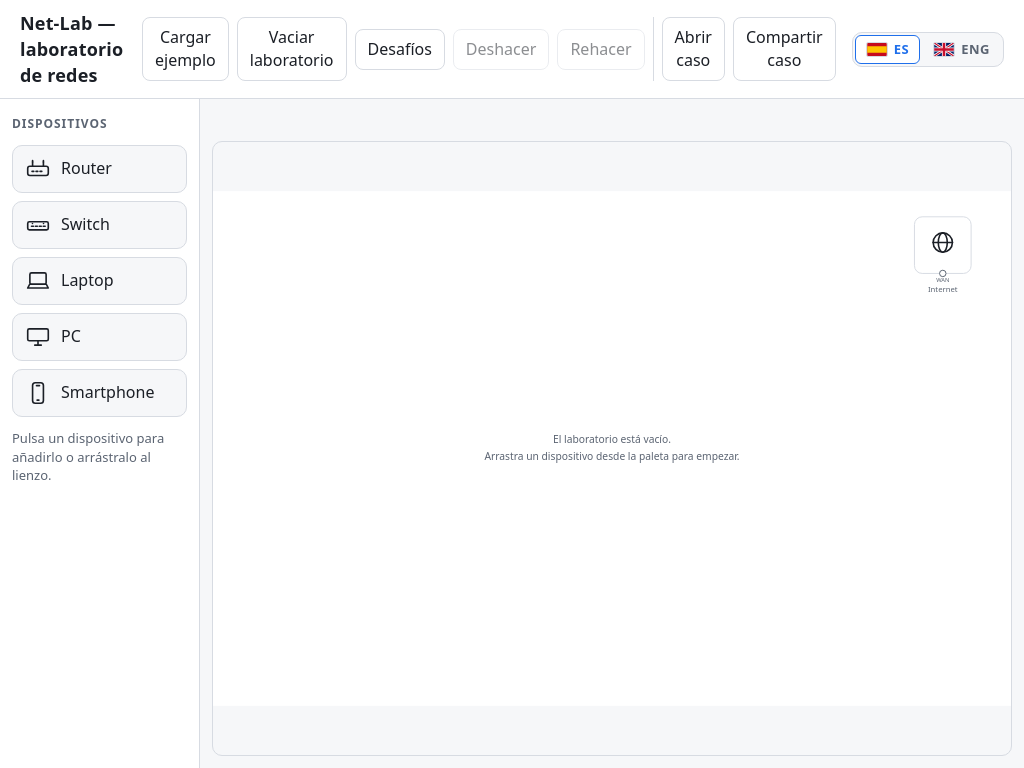
the panel asks before it tells (S76, S77, S80) › hides the reason behind the question and reveals it when the student gets it right
Click the button "Router".
click(100, 169)  # box x1=12 y1=145 x2=187 y2=193
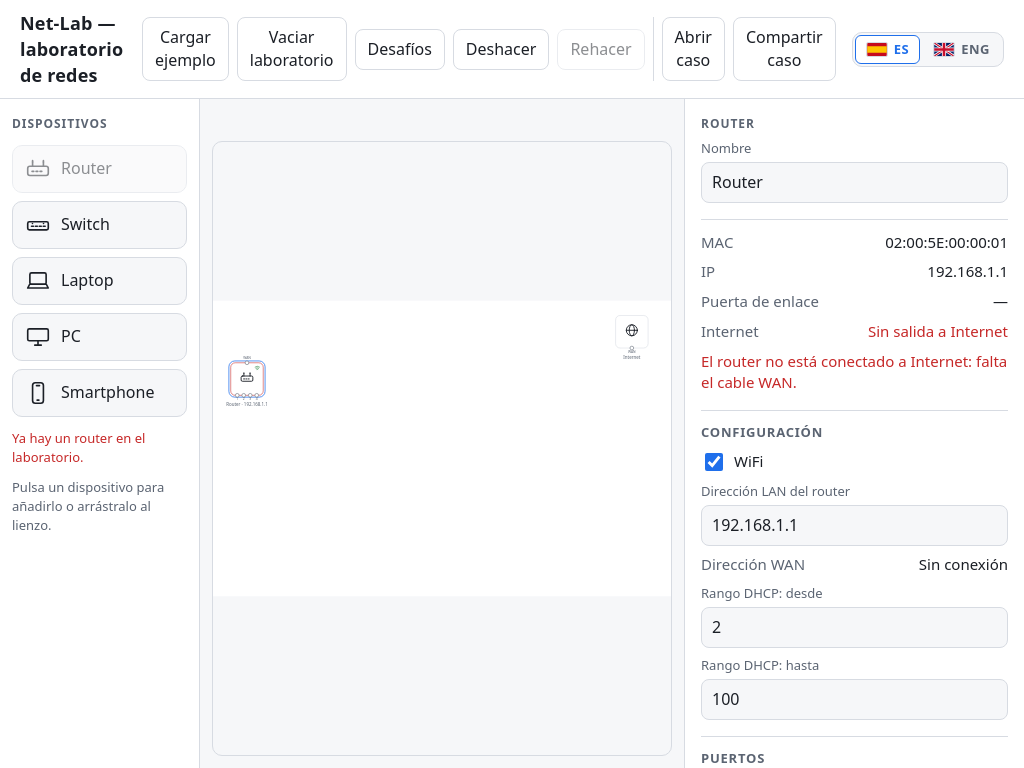
Click the button "Laptop".
click(100, 281)  # box x1=12 y1=257 x2=187 y2=305
(page scrolled)
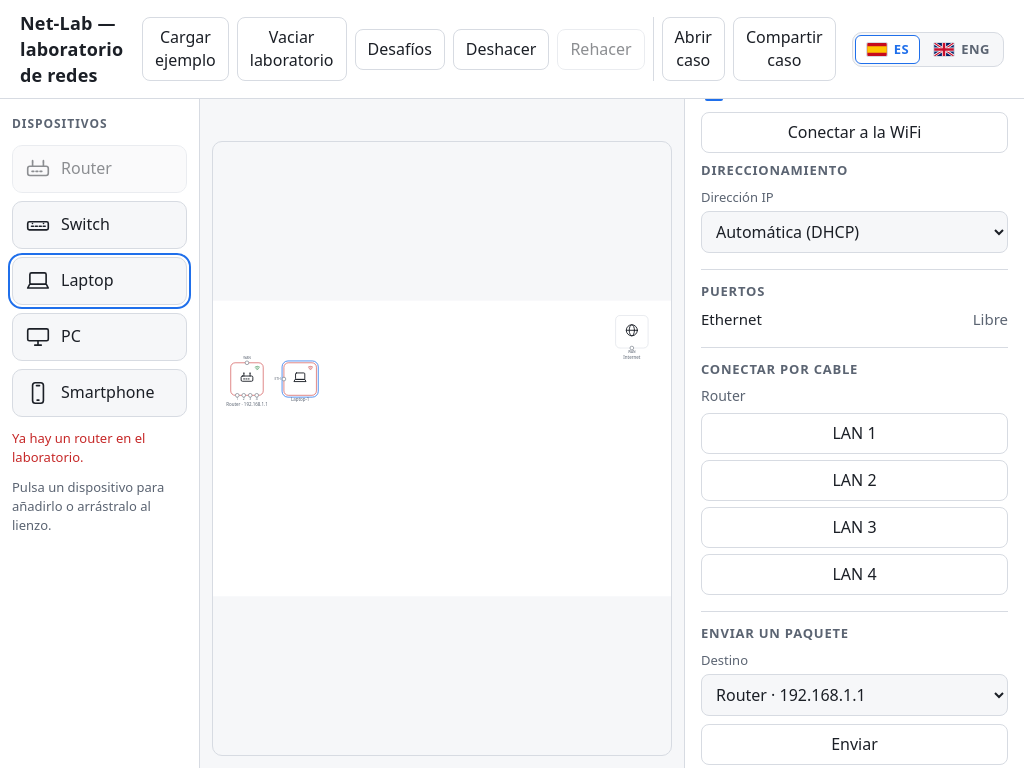
Click the button "LAN 1".
click(854, 433)  # box x1=701 y1=413 x2=1008 y2=454
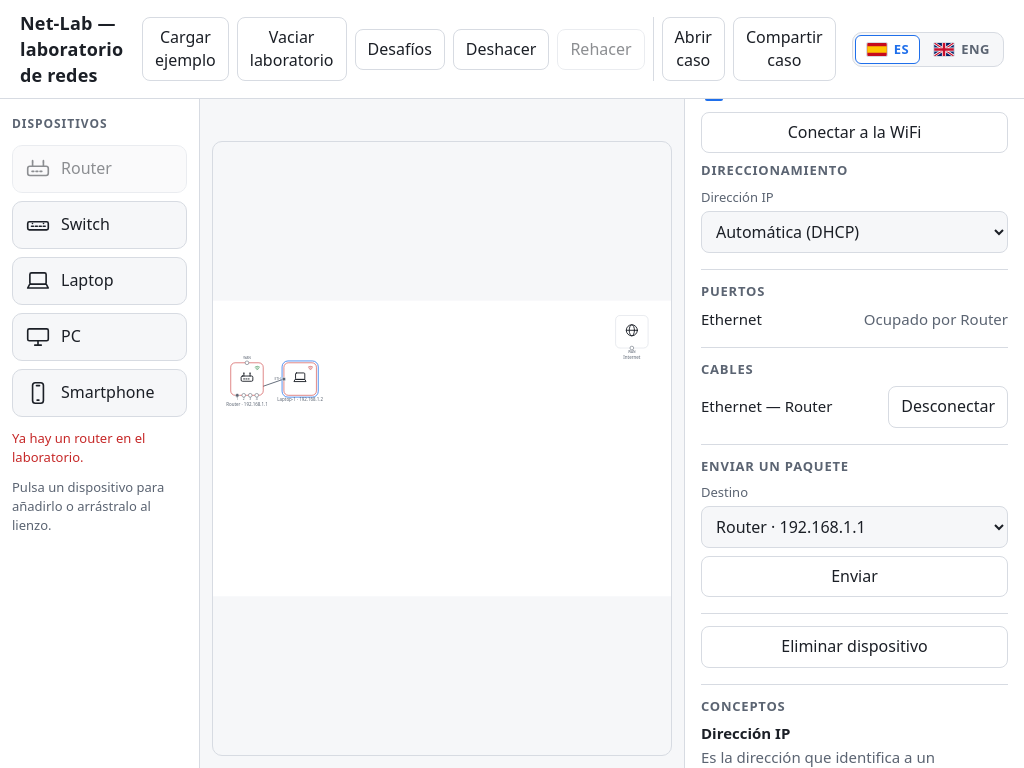
Select "Manual" in the dropdown labelled "Dirección IP" at (854, 232), box x1=701 y1=211 x2=1008 y2=253
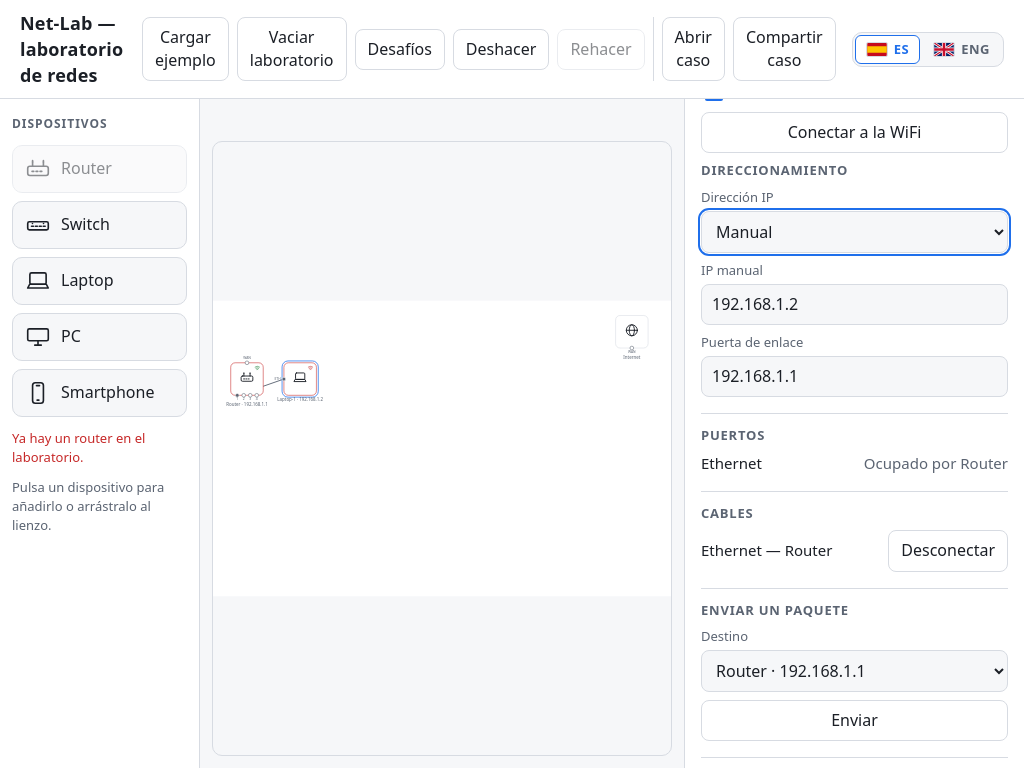
Replace the text in the field labelled "IP manual" with "10.0.0.5" at (854, 304), box x1=701 y1=284 x2=1008 y2=325
Then press Enter
(page scrolled)
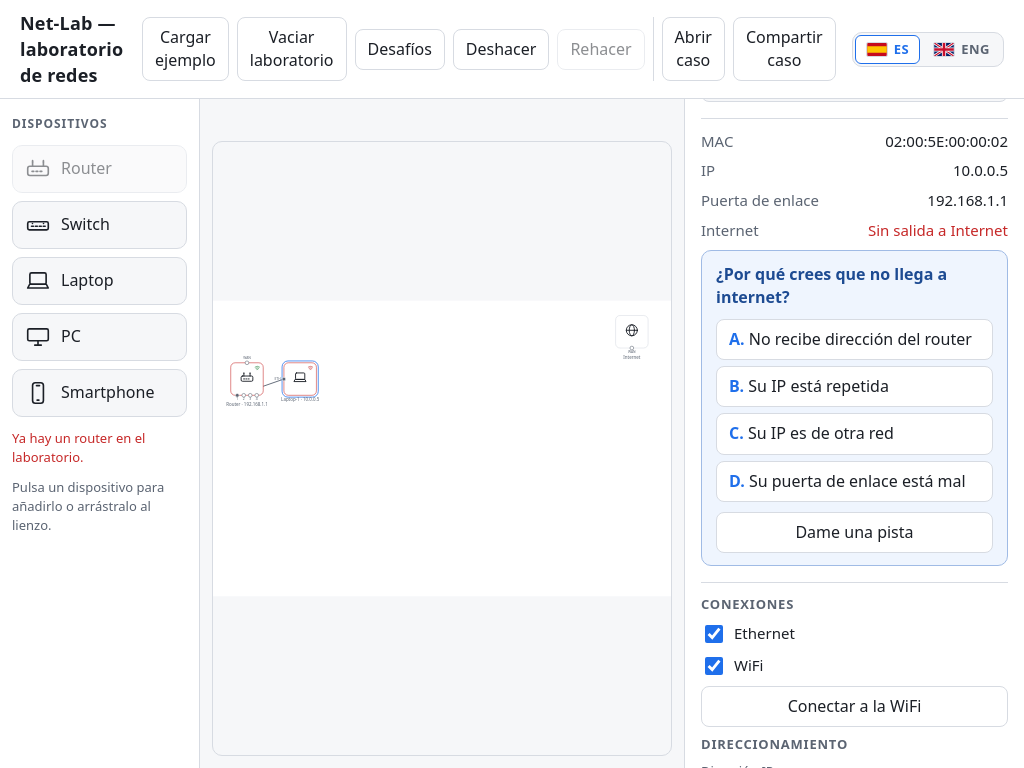
Check: the text "Sin salida a Internet" is shown, box x1=868 y1=220 x2=1008 y2=242
Check: the text "¿Por qué crees que no llega a internet?" is shown, box x1=716 y1=263 x2=947 y2=308
Check: the button "Su IP es de otra red" is shown
Click the button "Su IP es de otra red".
click(854, 434)  # box x1=716 y1=414 x2=993 y2=455
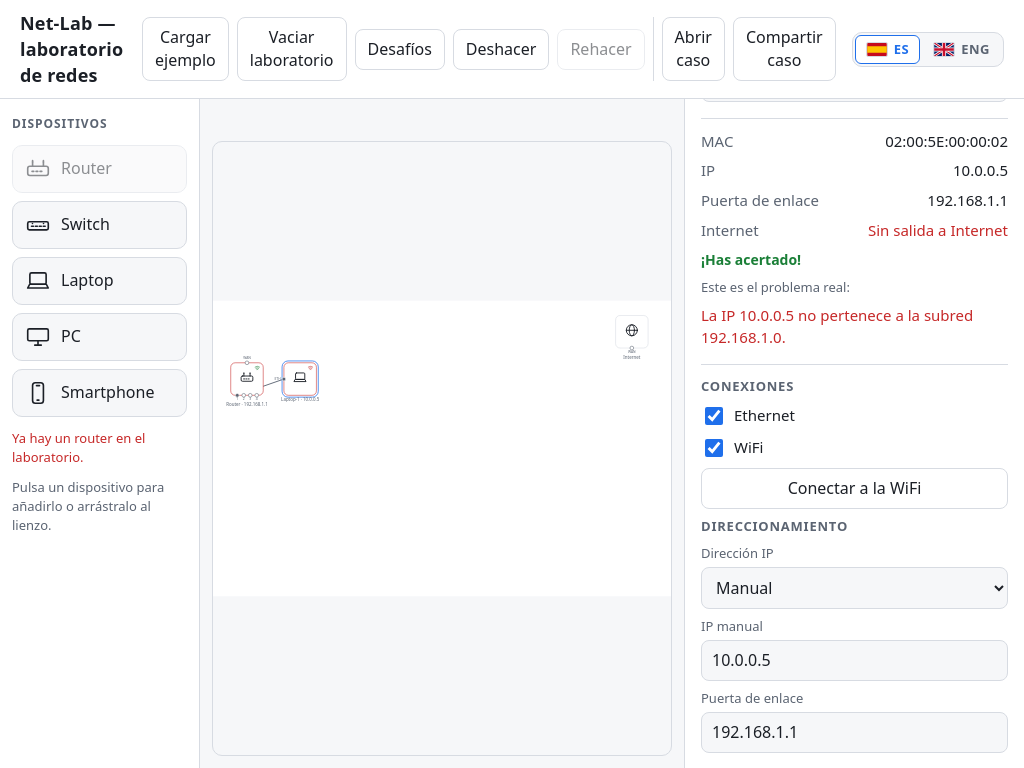
Check: the message reads "¡Has acertado!", box x1=701 y1=250 x2=801 y2=269
Check: the text "Este es el problema real:" is shown, box x1=701 y1=278 x2=850 y2=296
Check: the text "La IP 10.0.0.5 no pertenece a la subred 192.168.1.0." is shown, box x1=701 y1=305 x2=1008 y2=348
